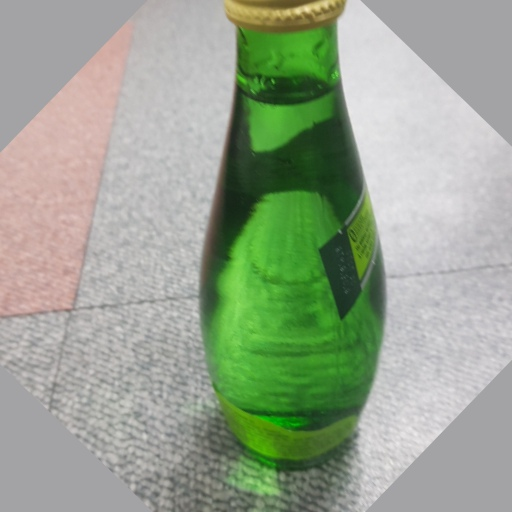Glass_4: (196, 1, 387, 468)
